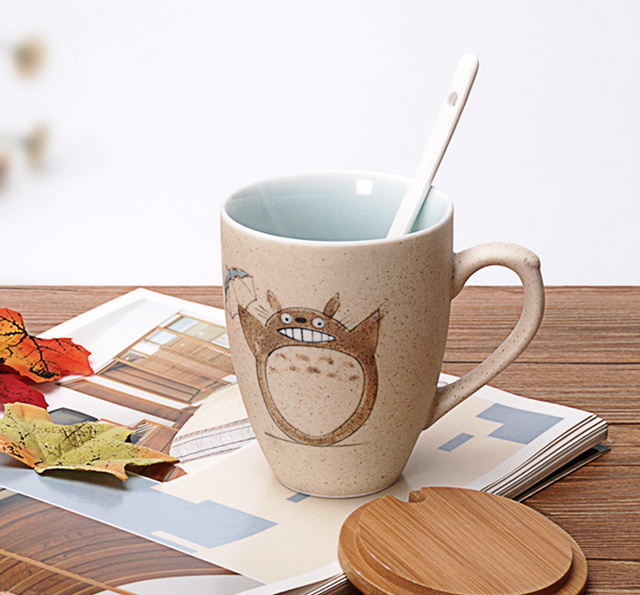cup: (217, 170, 546, 498)
